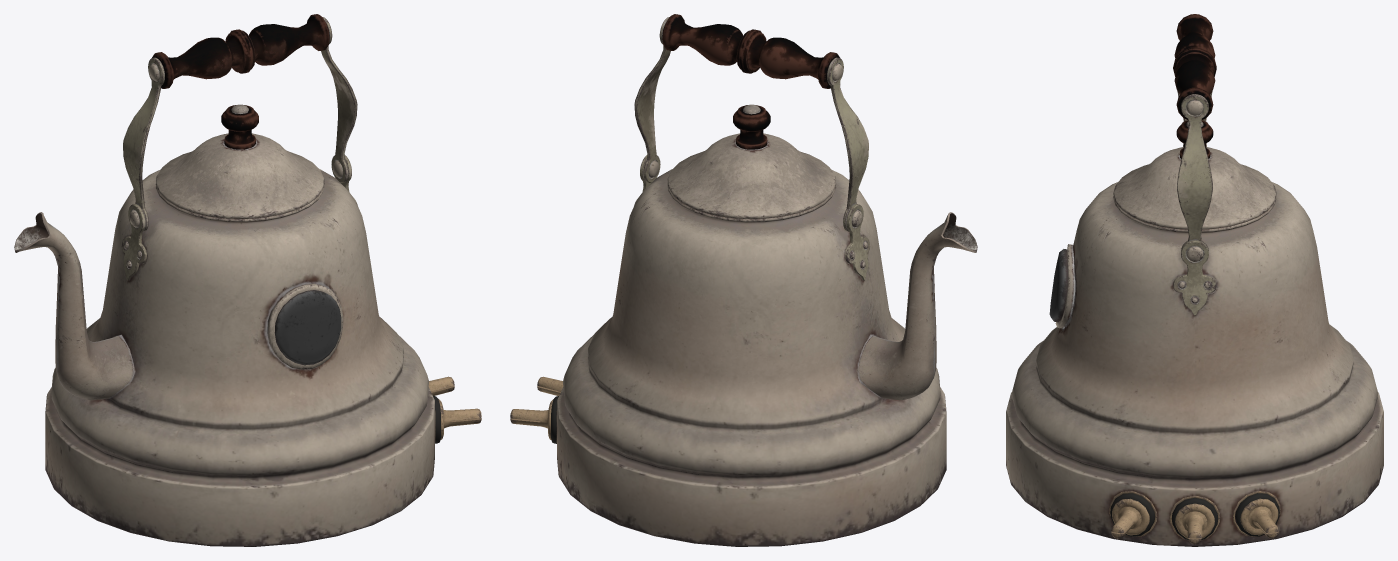
The model's file is vintage_electric_kettle.glb.
3 renders of one model, left to right at view 1: azimuth 30°, elevation 25°; view 2: azimuth 150°, elevation 25°; view 3: azimuth 270°, elevation 25°, orthographic. The views are drawn at different scales.
Visible parts, largest first — view 1: vintage_electric_kettle; view 2: vintage_electric_kettle; view 3: vintage_electric_kettle.
Boxes of the visible parts, box(x1,y1,x2,y2) form: vintage_electric_kettle: box(14, 14, 481, 546); vintage_electric_kettle: box(510, 14, 977, 546); vintage_electric_kettle: box(1006, 14, 1383, 546).
Size of the model in its own units: 0.3209 by 0.3048 by 0.2486.
2 materials, 2 textured.
